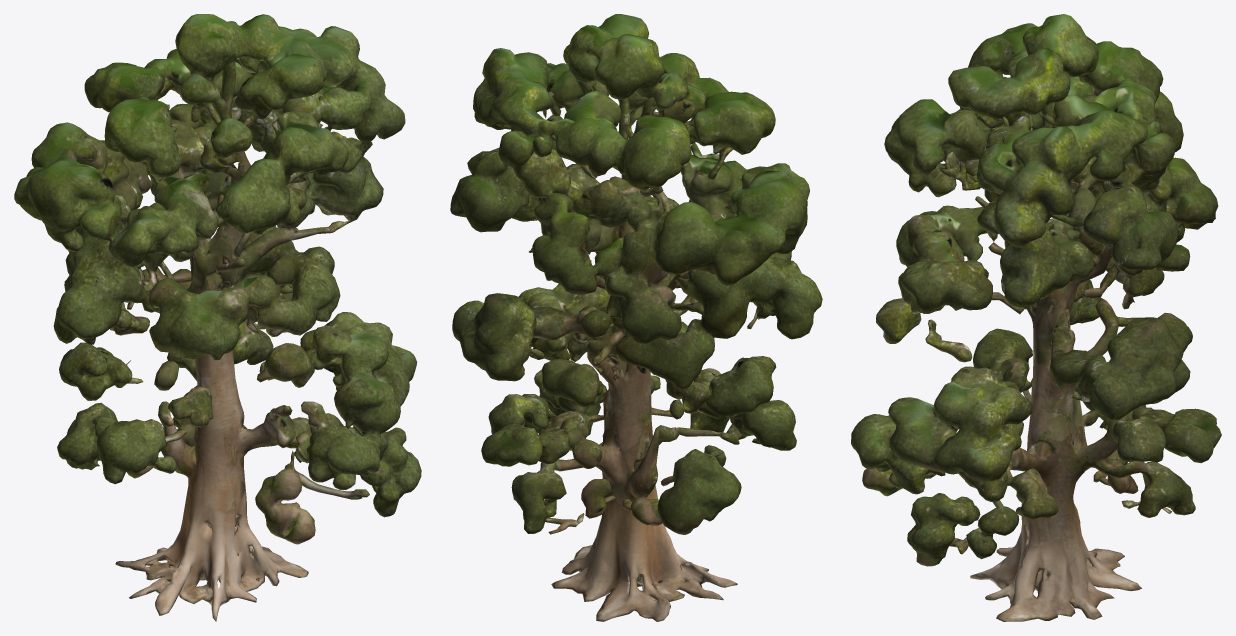
Rendered from kadirkasth.glb.
3 views of the same model, side by side, from view 1: azimuth 30°, elevation 25°; view 2: azimuth 150°, elevation 25°; view 3: azimuth 270°, elevation 25° (orthographic). The views are drawn at different scales.
Size of the model in its own units: 1.28 by 2 by 1.16.
1 material, 1 textured.
